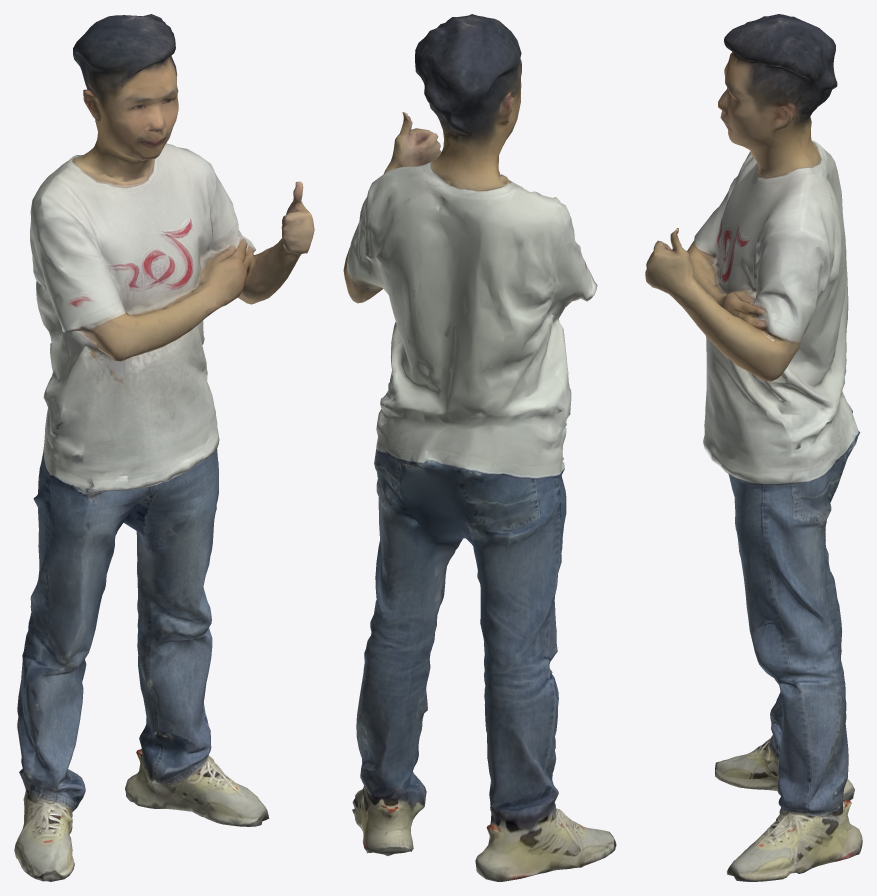
The model's file is CH31_HYZ3.glb.
The picture shows the model from 3 angles, left to right: view 1: azimuth 30°, elevation 25°; view 2: azimuth 150°, elevation 25°; view 3: azimuth 270°, elevation 25°; orthographic projection.
Visible parts, largest first — view 1: da_L; view 2: da_L; view 3: da_L.
Part boxes in pixels (x1,y1,x2,y2): da_L: (14, 14, 314, 881); da_L: (343, 14, 616, 881); da_L: (645, 14, 862, 881).
Size of the model in its own units: 0.0109 by 0.0333 by 0.00816.
Materials: 1 (1 with a texture image).
